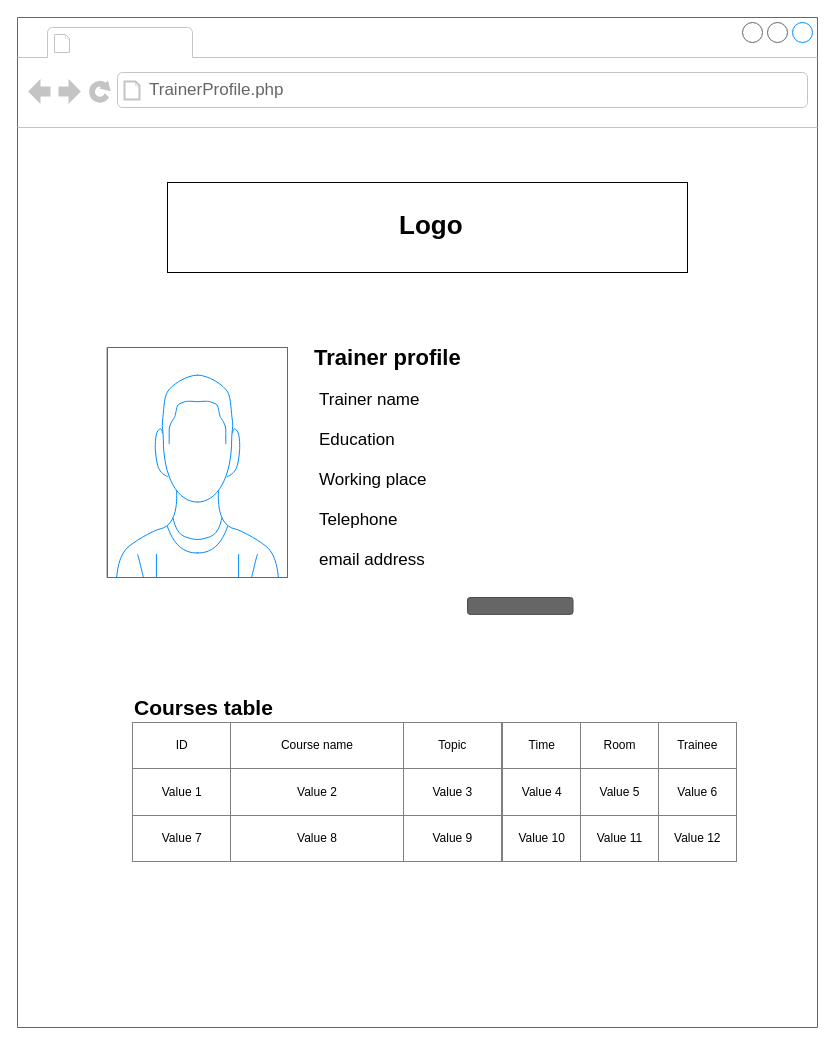
Some shapes in this 835 by 1045 pixel diagram are drawn without their labels. Each missing label, with the centre of its shape:
Page 1: [132,42]
Update profile: [519,605]
